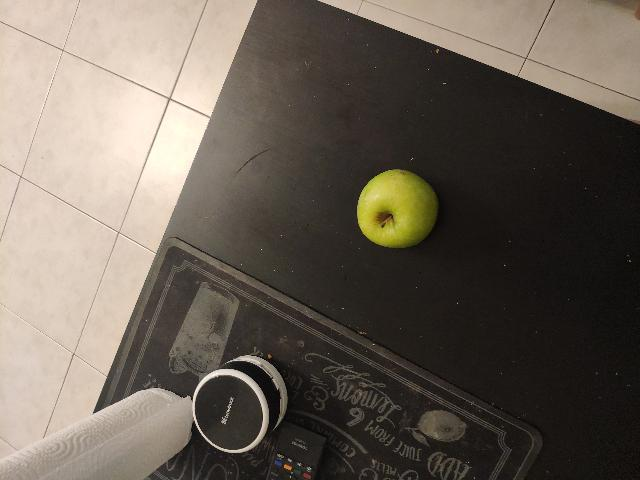apple: (342, 156, 463, 258)
